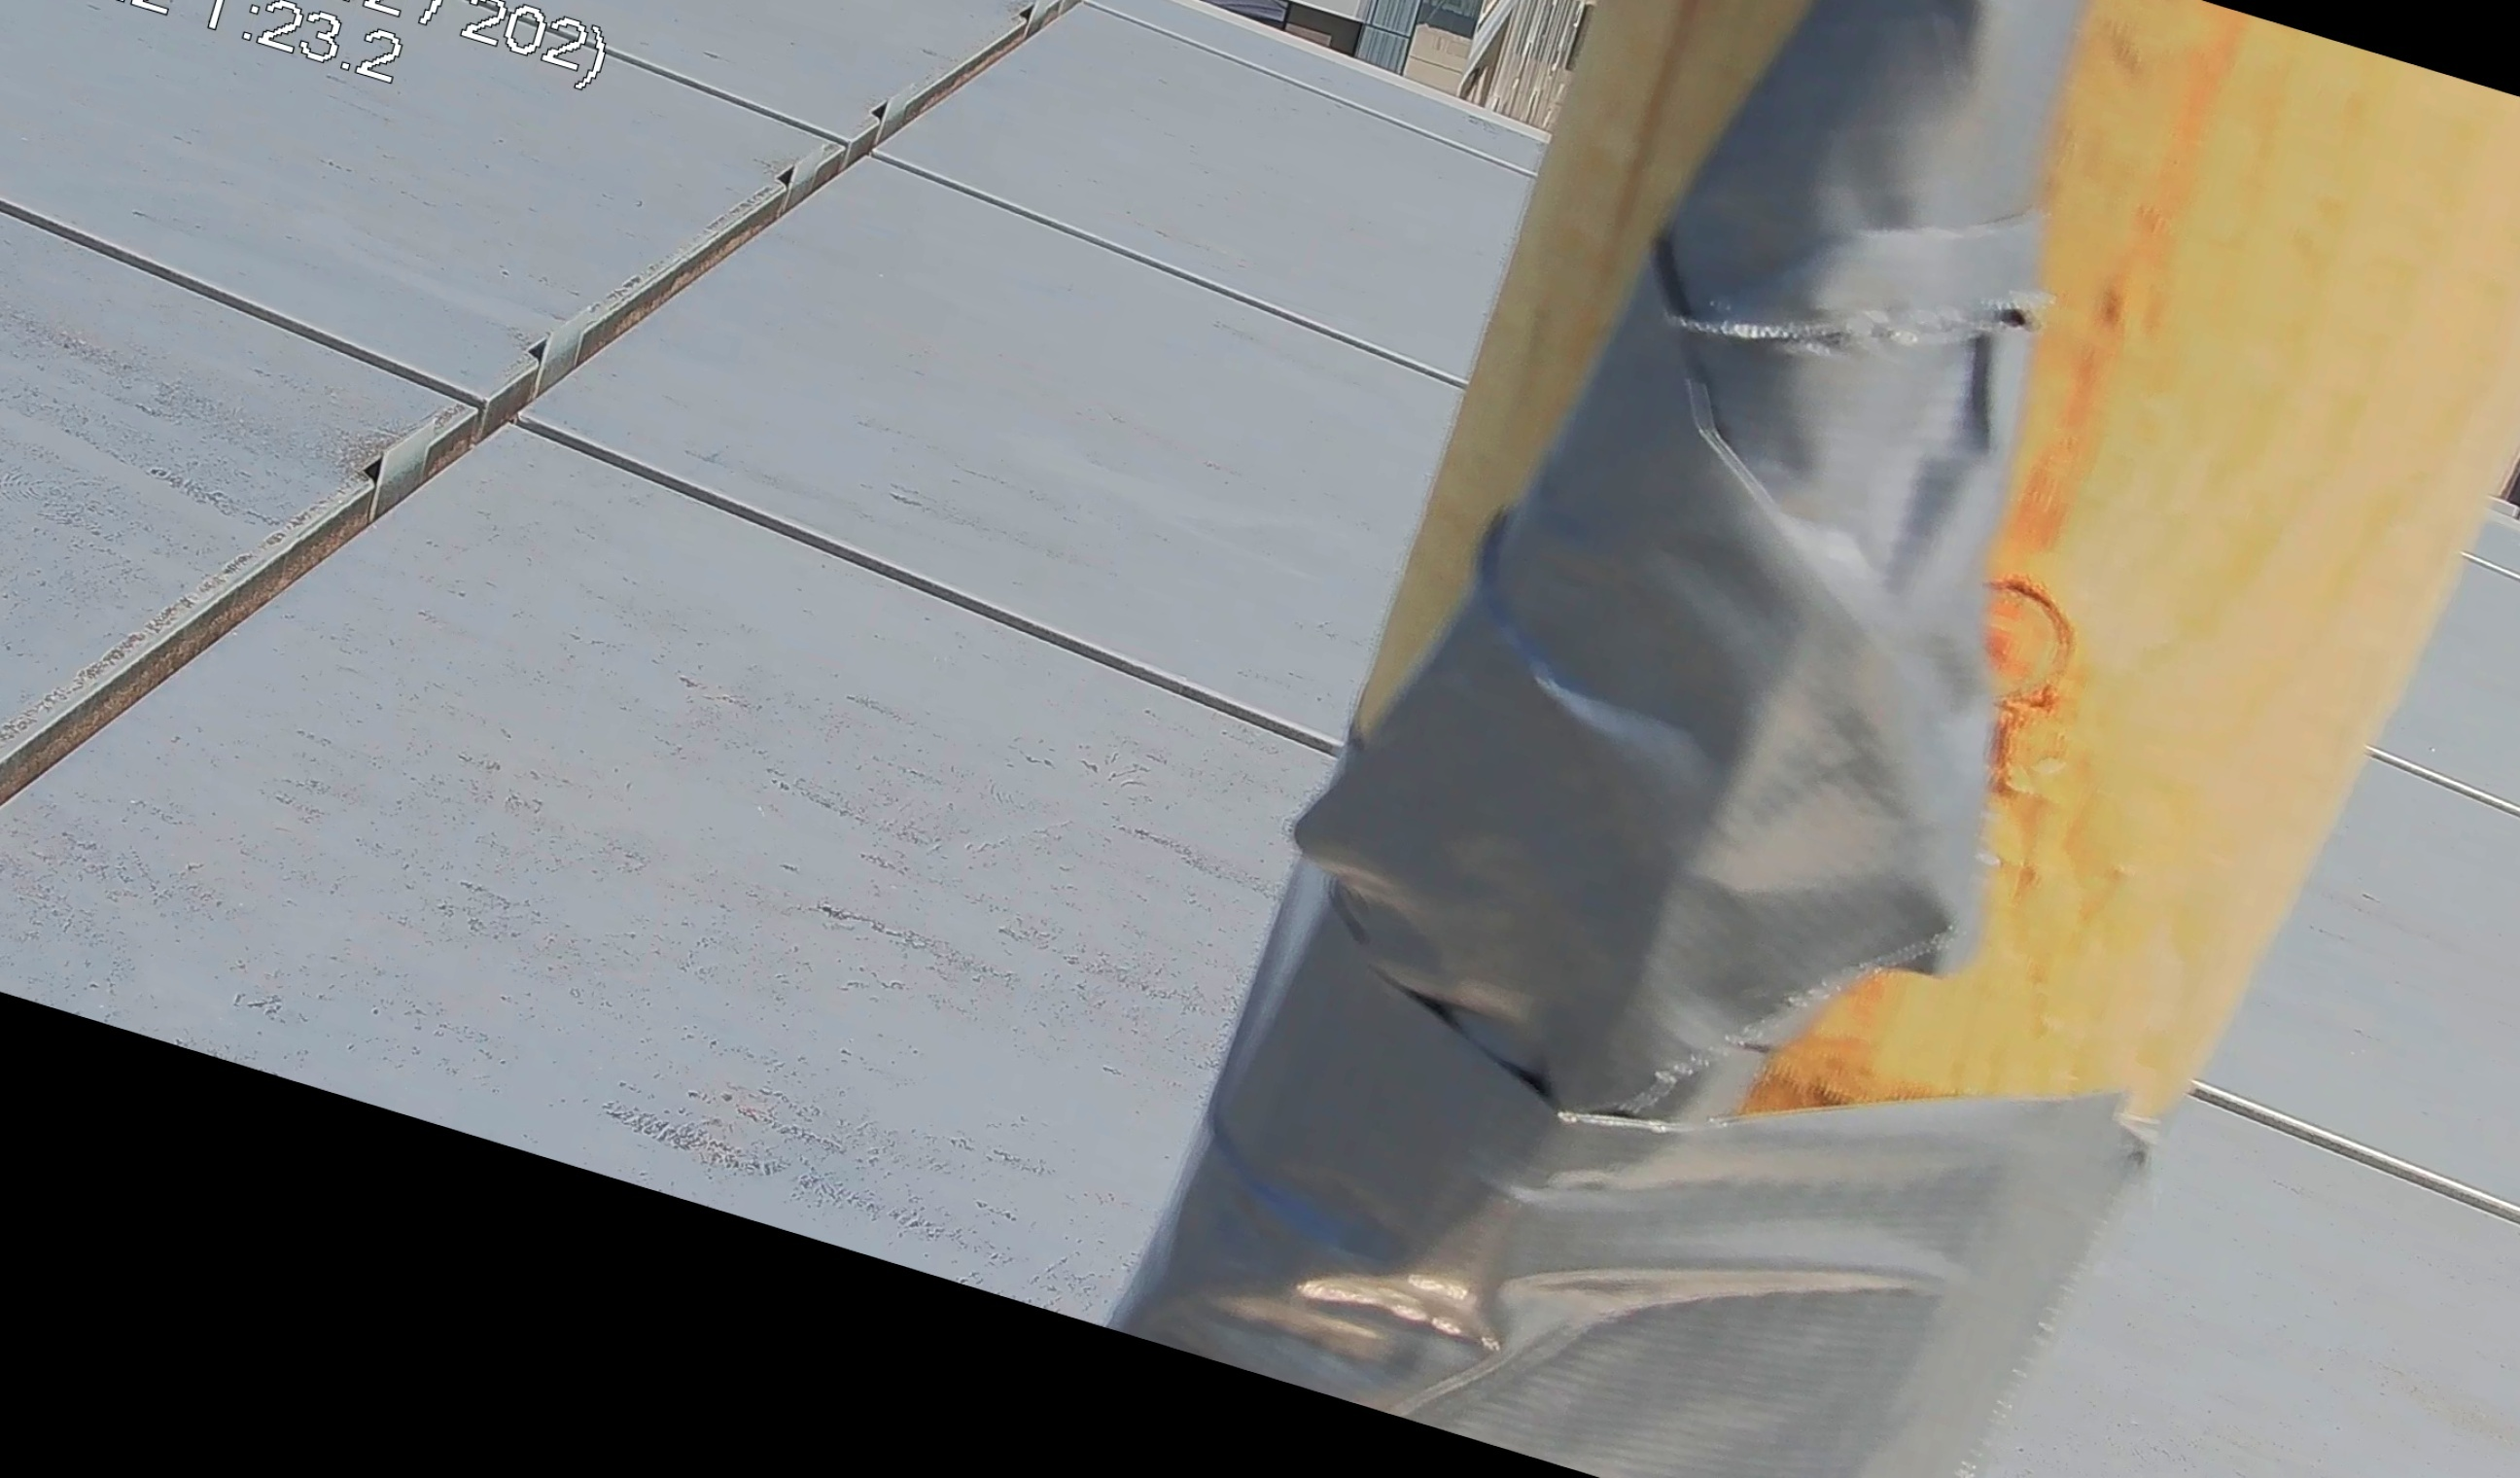Other: (1243, 0, 2297, 1316)
